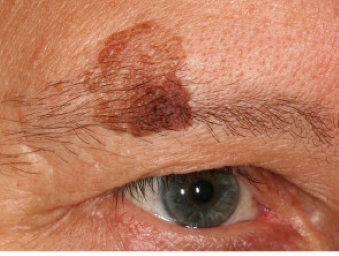seborrheic keratosis: (71, 19, 203, 138)
